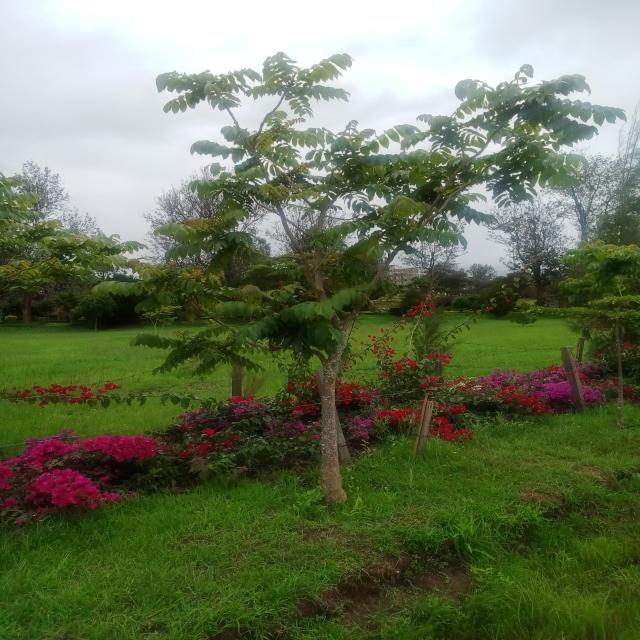Polyscias Kikuyensis: (119, 41, 621, 498), (0, 168, 143, 341)
